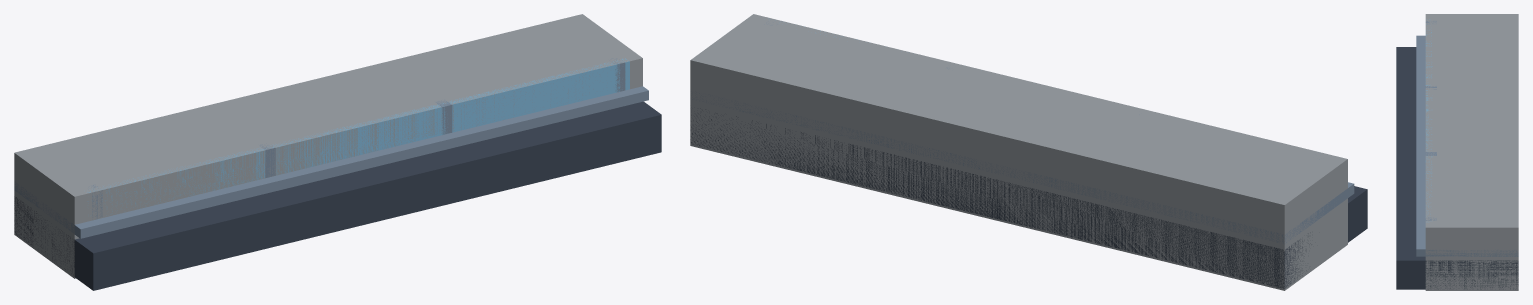
Rendered from cittaVetroTetto.glb.
The picture shows the model from 3 angles, left to right: view 1: azimuth 30°, elevation 25°; view 2: azimuth 150°, elevation 25°; view 3: azimuth 270°, elevation 25°; orthographic projection. The views are drawn at different scales.
Visible parts, largest first — view 1: cittaVetroTetto_cittaVetro, cittaVetroTetto_steelDark, cittaVetroTetto_glass, cittaVetroTetto_steel; view 2: cittaVetroTetto_cittaVetro, cittaVetroTetto_steelDark, cittaVetroTetto_steel; view 3: cittaVetroTetto_cittaVetro, cittaVetroTetto_steelDark, cittaVetroTetto_steel, cittaVetroTetto_glass.
Part boxes in pixels (left/top/right/bottom): cittaVetroTetto_cittaVetro: left=14, top=14, right=642, bottom=278; cittaVetroTetto_steelDark: left=14, top=101, right=661, bottom=290; cittaVetroTetto_glass: left=87, top=58, right=629, bottom=215; cittaVetroTetto_steel: left=14, top=58, right=648, bottom=238; cittaVetroTetto_cittaVetro: left=690, top=14, right=1347, bottom=290; cittaVetroTetto_steelDark: left=690, top=108, right=1367, bottom=288; cittaVetroTetto_steel: left=690, top=21, right=1354, bottom=244; cittaVetroTetto_cittaVetro: left=1425, top=14, right=1518, bottom=290; cittaVetroTetto_steelDark: left=1396, top=47, right=1518, bottom=289; cittaVetroTetto_steel: left=1416, top=21, right=1518, bottom=256; cittaVetroTetto_glass: left=1425, top=19, right=1432, bottom=222.
Bounding box in the file's own units: 8.7 × 1.2 × 2.1.
